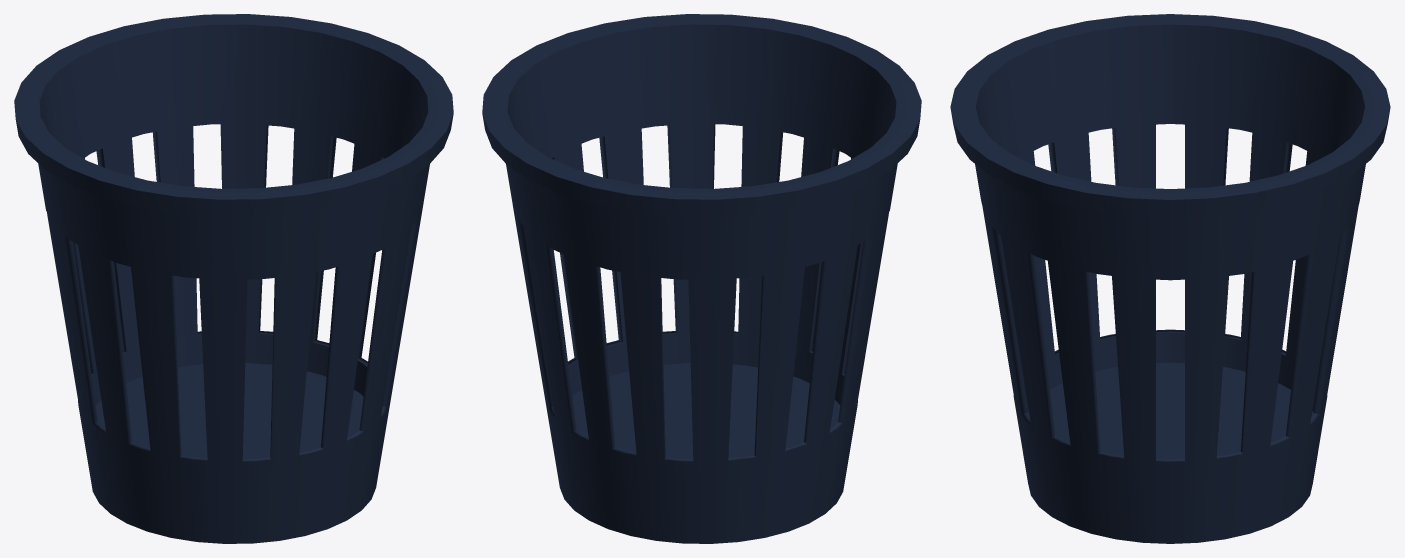
Rendered from trashcan_tier2.fbx.
The picture shows the model from 3 angles, left to right: view 1: azimuth 30°, elevation 25°; view 2: azimuth 150°, elevation 25°; view 3: azimuth 270°, elevation 25°; orthographic projection.
Parts seen in each view (by area): view 1: Cylinder; view 2: Cylinder; view 3: Cylinder.
Part boxes in pixels (bbox=[...]): Cylinder: bbox=[14, 14, 453, 543]; Cylinder: bbox=[482, 14, 921, 543]; Cylinder: bbox=[950, 14, 1390, 543].
Bounding box in the file's own units: 0.6751 × 0.638 × 0.6751.
